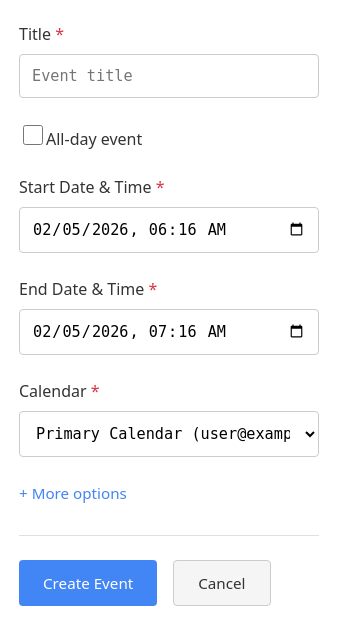
Test: EventForm Component › Form Validation - Required Fields › should validate end time is after start time
// Clear pre-filled dates and set end time before start time
Clear the field labelled "Start Date & Time *" at [169, 230], box [19,207,319,253]
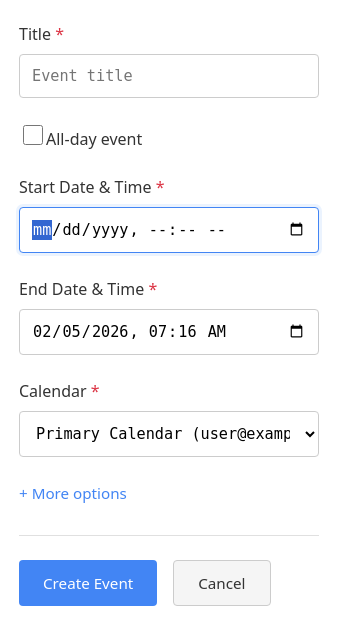
Clear the field labelled "End Date & Time *" at [169, 332], box [19,309,319,355]
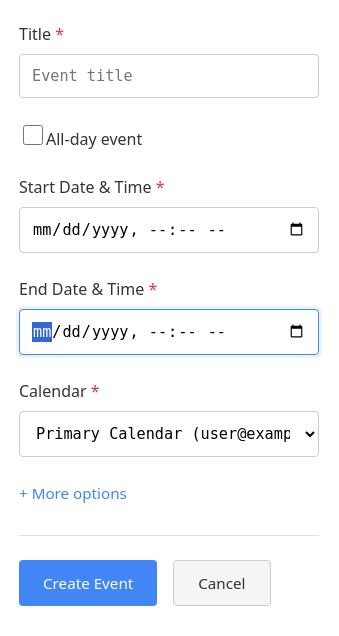
Type "Test Event" into the field labelled "Title *" at [169, 76], box [19,54,319,98]
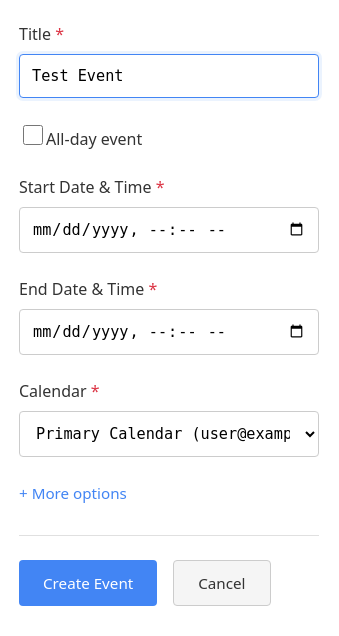
Type "2026-02-01T14:00" into the field labelled "Start Date & Time *" at [169, 230], box [19,207,319,253]
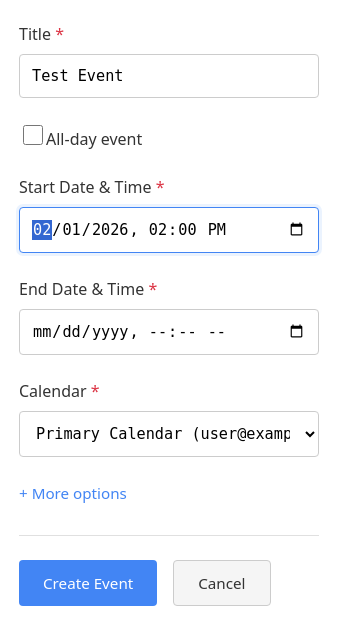
Type "2026-02-01T12:00" into the field labelled "End Date & Time *" at [169, 332], box [19,309,319,355]
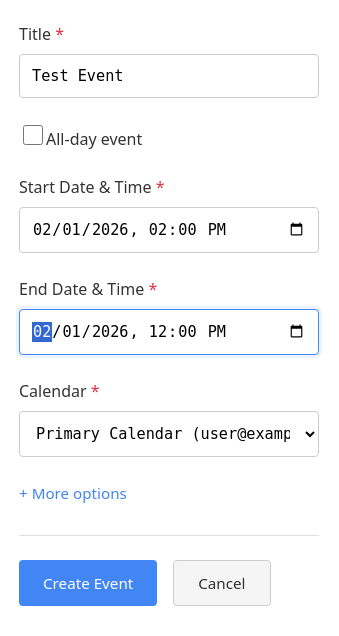
// Try to submit
Click the button "Create Event" at [88, 583], box [19,560,157,606]
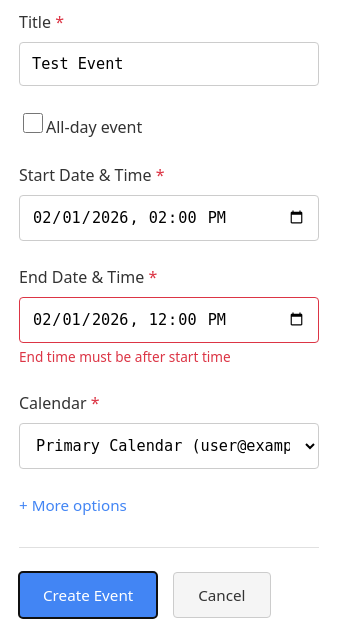
expect the text "End time must be after start time" is shown: met, box [19,347,231,366]
